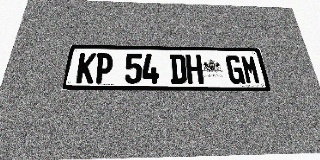4: (142, 54, 159, 84)
5: (125, 53, 142, 84)
D: (169, 54, 187, 84)
G: (225, 55, 245, 84)
H: (185, 54, 204, 84)
K: (75, 53, 97, 83)
M: (240, 55, 261, 84)
P: (93, 53, 113, 84)
